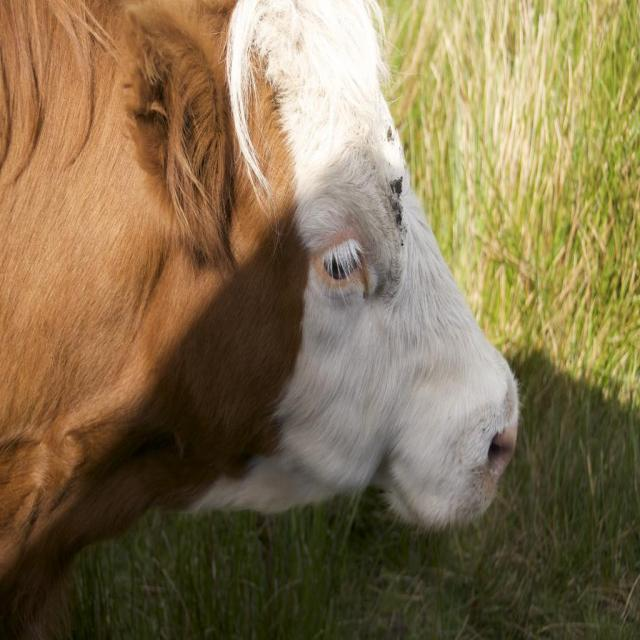Cattle: (0, 0, 556, 590)
